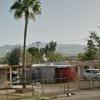Palm tree: (8, 0, 45, 65)
